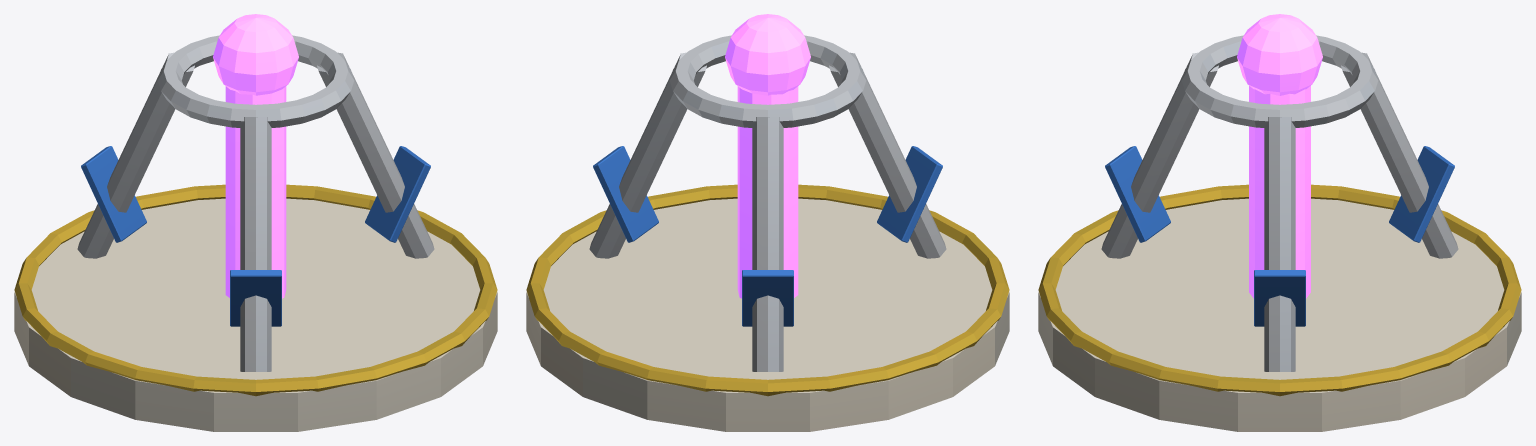
Rendered from recepteur.glb.
3 renders of one model, left to right at view 1: azimuth 30°, elevation 25°; view 2: azimuth 150°, elevation 25°; view 3: azimuth 270°, elevation 25°, orthographic.
Parts seen in each view (by area): view 1: recepteur; view 2: recepteur; view 3: recepteur.
Boxes of the visible parts, x1=… form: recepteur: x1=14, y1=14, x2=497, y2=431; recepteur: x1=526, y1=14, x2=1009, y2=431; recepteur: x1=1038, y1=14, x2=1521, y2=431.
Size of the model in its own units: 2.8 by 2 by 2.8.
